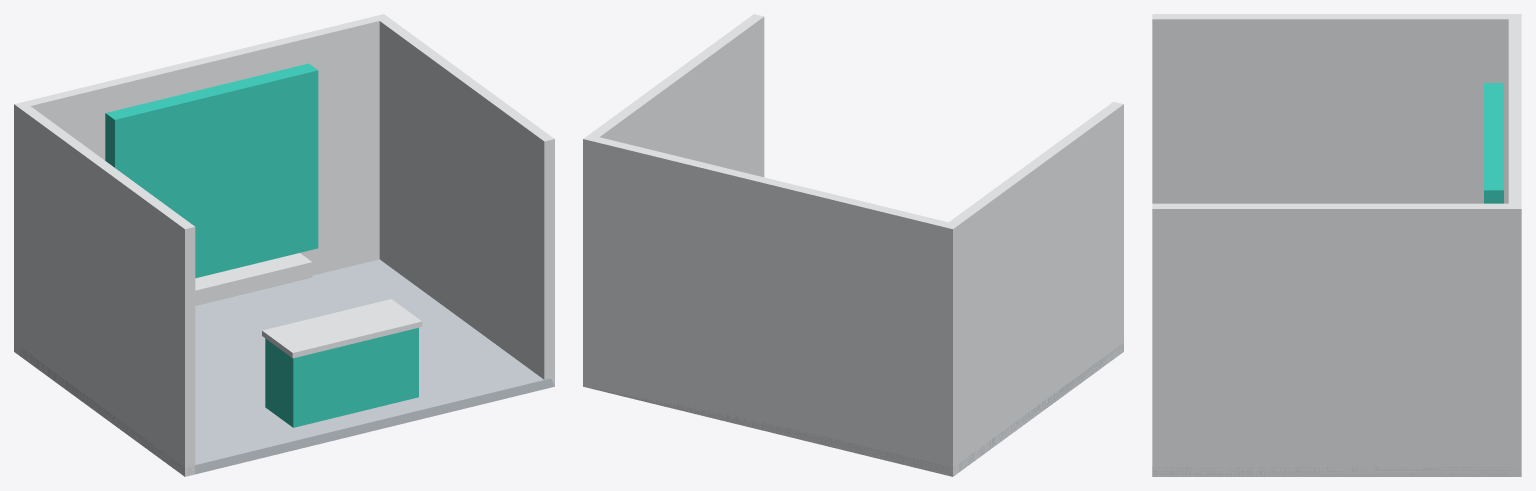
3 views of the same model, side by side, from view 1: azimuth 30°, elevation 25°; view 2: azimuth 150°, elevation 25°; view 3: azimuth 270°, elevation 25° (orthographic). The views are drawn at different scales.
Parts seen in each view (by area): view 1: Exhibition Booth Concept; view 2: Exhibition Booth Concept; view 3: Exhibition Booth Concept.
Part boxes in pixels (x1,y1,x2,y2): Exhibition Booth Concept: [14, 14, 554, 476]; Exhibition Booth Concept: [583, 14, 1123, 476]; Exhibition Booth Concept: [1152, 14, 1521, 476].
Bounding box in the file's own units: 5 × 3.2 × 4.
